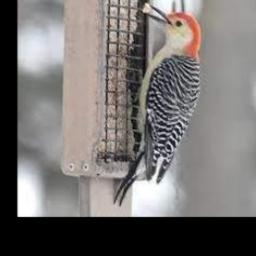Woodpecker: (113, 4, 200, 206)
